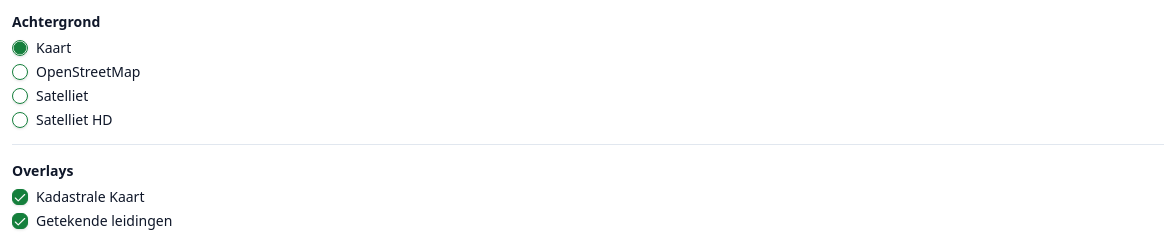
LayerManagerPanel › selecting a different base swaps the checked radio (mutual exclusion)
Click the 3rd radio button named "Satelliet": {"x": 20, "y": 96} [12,88,28,104]
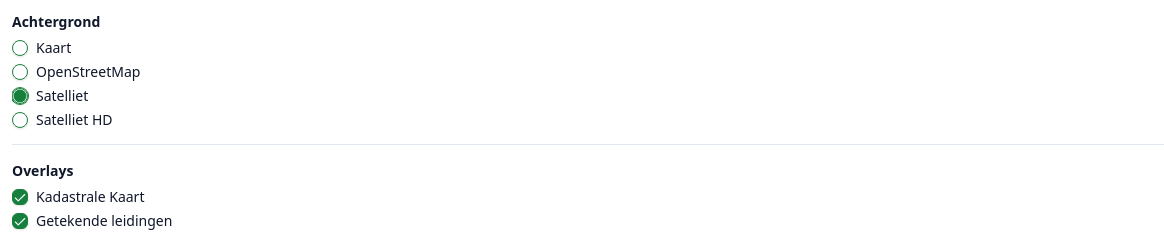
Now the 3rd radio button named "Satelliet" is checked, box [12,88,28,104]
Now the 1st radio button named "Kaart" is not checked, box [12,40,28,56]
